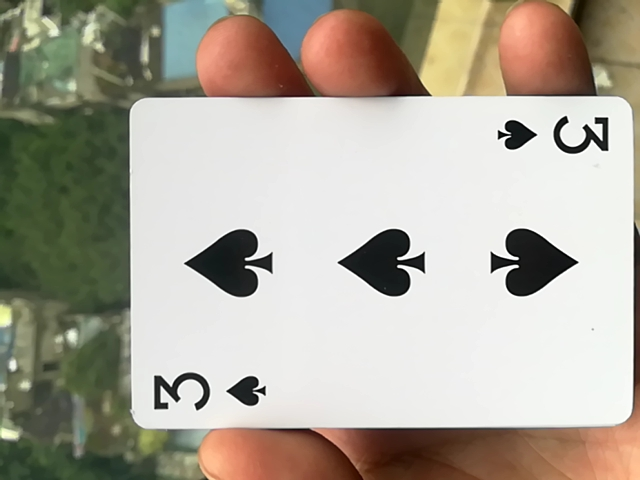ht 3: (114, 108, 635, 455)
